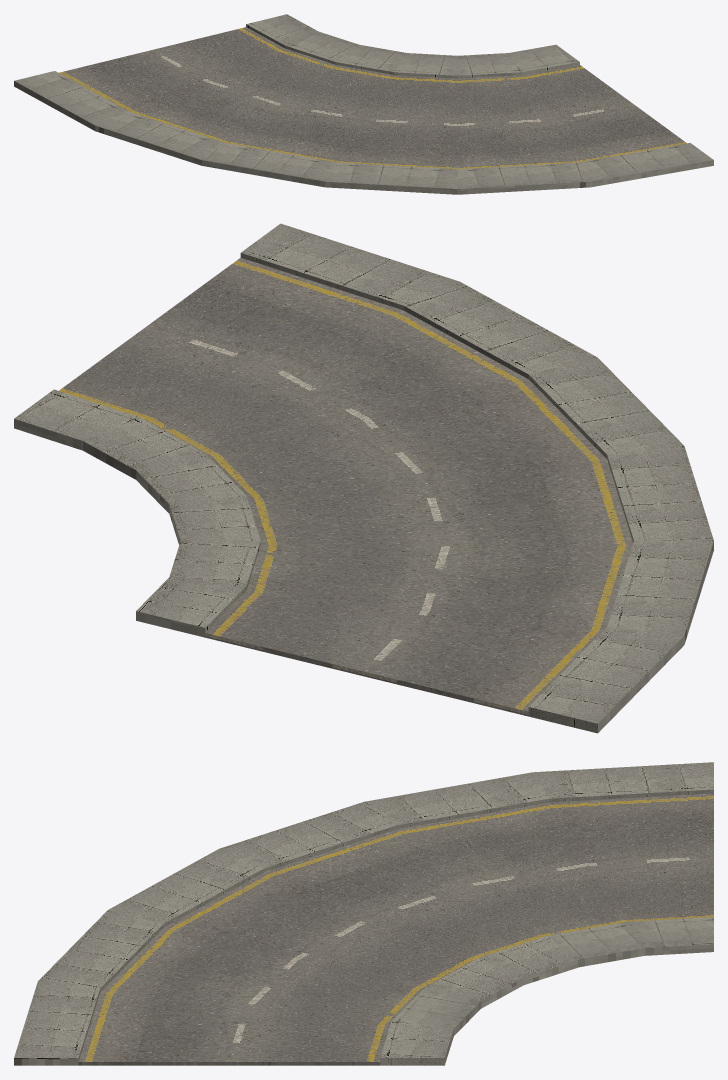
File: road_1_long_corner.glb
The picture shows the model from 3 angles, top to bottom: view 1: azimuth 30°, elevation 25°; view 2: azimuth 150°, elevation 25°; view 3: azimuth 270°, elevation 25°; orthographic projection. The views are drawn at different scales.
Visible parts, largest first — view 1: road_1_long_corner; view 2: road_1_long_corner; view 3: road_1_long_corner.
Part boxes in pixels (left/top/right/bottom): road_1_long_corner: left=14, top=14, right=713, bottom=194; road_1_long_corner: left=14, top=223, right=713, bottom=733; road_1_long_corner: left=14, top=762, right=713, bottom=1065.
Size of the model in its own units: 26 by 0.32 by 26.
2 materials, 2 textured.
